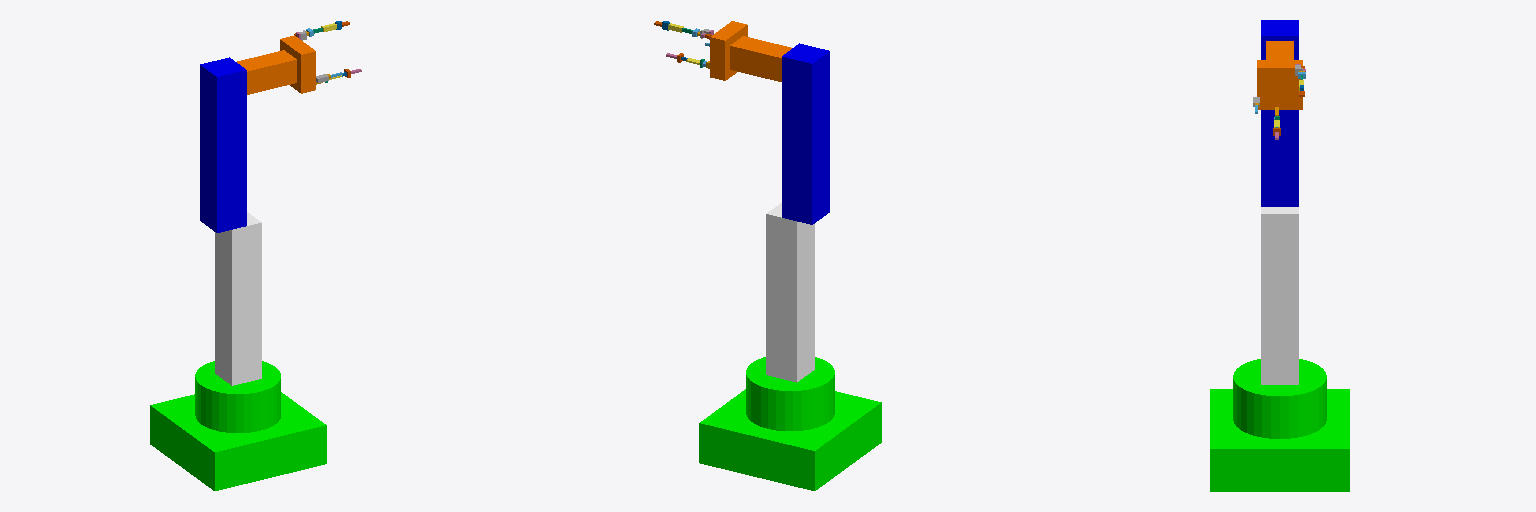
The robot description file, URDF, robot "robot":
<?xml version='1.0' encoding='utf-8'?>
<robot name="robot">
  <link name="base_link">
    <visual>
      <origin xyz="0 0 0.125" rpy="0 0 0" />
      <geometry>
        <box size="0.75 0.75 0.25" />
      </geometry>
      <material name="green" />
    </visual>
    <visual>
      <origin xyz="0 0 0.375" rpy="0 0 0" />
      <geometry>
        <cylinder length="0.25" radius="0.25" />
      </geometry>
      <material name="green">
        <color rgba="0 1 0 1" />
      </material>
    </visual>
    <collision>
      <geometry>
        <box size="0.75 0.75 0.5" />
      </geometry>
    </collision>
    <inertial>
      <mass value="0.5" />
      <inertia ixx="0.034" ixy="0.0" ixz="0.0" iyy="0.034" iyz="0.0" izz="0.034" />
    </inertial>
  </link>
  <link name="support_link">
    <visual>
      <origin xyz="0 0 0.5" rpy="0 0 0" />
      <geometry>
        <box size="0.2 0.2 1" />
      </geometry>
      <material name="white">
        <color rgba="1 1 1 1" />
      </material>
    </visual>
    <collision>
      <geometry>
        <box size="0.2 0.2 1" />
      </geometry>
    </collision>
    <inertial>
      <mass value="0.1" />
      <inertia ixx="0.01" ixy="0.0" ixz="0.0" iyy="0.01" iyz="0.0" izz="0.01" />
    </inertial>
  </link>
  <joint name="support_joint" type="continuous">
    <origin xyz="0 0 0.5" rpy="0 0 0" />
    <parent link="base_link" />
    <child link="support_link" />
    <axis xyz="0 0 1" />
  </joint>
  <link name="arm_link">
    <visual>
      <origin xyz="0 0 0.5" rpy="0 0 0" />
      <geometry>
        <box size="0.2 0.2 1" />
      </geometry>
      <material name="blue">
        <color rgba="0 0 1 1" />
      </material>
    </visual>
    <collision>
      <geometry>
        <box size="0.2 0.2 1" />
      </geometry>
    </collision>
    <inertial>
      <mass value="0.1" />
      <inertia ixx="0.01" ixy="0.0" ixz="0.0" iyy="0.01" iyz="0.0" izz="0.01" />
    </inertial>
  </link>
  <joint name="arm_joint" type="revolute">
    <origin xyz="-0.1 0 1" rpy="0 0 0" />
    <parent link="support_link" />
    <child link="arm_link" />
    <axis xyz="0 1 0" />
    <limit lower="-3.14" upper="3.14" effort="1.0" velocity="1.0" />
  </joint>
  <link name="wrist_link">
    <visual>
      <origin xyz="0 0 0.25" rpy="0 0 0" />
      <geometry>
        <box size="0.15 0.15 0.5" />
      </geometry>
      <material name="orange">
        <color rgba="1 0.5 0 1" />
      </material>
    </visual>
    <collision>
      <geometry>
        <box size="0.15 0.15 0.5" />
      </geometry>
    </collision>
    <inertial>
      <mass value="0.1" />
      <inertia ixx="0.01" ixy="0.0" ixz="0.0" iyy="0.01" iyz="0.0" izz="0.01" />
    </inertial>
  </link>
  <joint name="wrist_joint" type="fixed">
    <origin xyz="0 0 0.9" rpy="0 1.571 0" />
    <parent link="arm_link" />
    <child link="wrist_link" />
  </joint>
  <link name="palm_link">
    <visual>
      <origin xyz="0 0 0.05" rpy="0 0 0" />
      <geometry>
        <box size="0.25 0.25 0.1" />
      </geometry>
      <material name="orange" />
    </visual>
    <collision>
      <geometry>
        <box size="0.25 0.25 0.1" />
      </geometry>
    </collision>
    <inertial>
      <mass value="0.1" />
      <inertia ixx="0.01" ixy="0.0" ixz="0.0" iyy="0.01" iyz="0.0" izz="0.01" />
    </inertial>
  </link>
  <joint name="palm_joint" type="fixed">
    <origin xyz="0 0 0.45" rpy="0 0 0" />
    <parent link="wrist_link" />
    <child link="palm_link" />
  </joint>
  <link name="finger_link_0_0">
    <visual>
      <origin xyz="0 0 0.0155" rpy="0 0 0" />
      <geometry>
        <box size="0.018 0.032 0.031" />
      </geometry>
    </visual>
    <collision>
      <geometry>
        <box size="0.018 0.032 0.031" />
      </geometry>
    </collision>
    <inertial>
      <mass value="0.005" />
      <inertia ixx="0.0" iyy="0.0" izz="0.0" ixy="0" ixz="0" iyz="0" />
    </inertial>
  </link>
  <joint name="finger_joint_palm_link_to_finger_link_0_0" type="revolute">
    <origin xyz="-0.125 0.116 0.1" rpy="0 0 0" />
    <parent link="palm_link" />
    <child link="finger_link_0_0" />
    <axis xyz="0.0 -1.0 0.0" />
    <limit lower="-3.142" upper="3.142" effort="10" velocity="10" />
  </joint>
  <link name="finger_link_0_1">
    <visual>
      <origin xyz="0 0 0.01" rpy="0 0 0" />
      <geometry>
        <box size="0.016 0.042 0.02" />
      </geometry>
    </visual>
    <collision>
      <geometry>
        <box size="0.016 0.042 0.02" />
      </geometry>
    </collision>
    <inertial>
      <mass value="0.004" />
      <inertia ixx="0.0" iyy="0.0" izz="0.0" ixy="0" ixz="0" iyz="0" />
    </inertial>
  </link>
  <joint name="finger_joint_finger_link_0_0_to_finger_link_0_1" type="revolute">
    <origin xyz="0.0 0.0 0.031" rpy="0 0 0" />
    <parent link="finger_link_0_0" />
    <child link="finger_link_0_1" />
    <axis xyz="0.0 1.0 0.0" />
    <limit lower="-3.142" upper="3.142" effort="10" velocity="10" />
  </joint>
  <link name="finger_link_0_2">
    <visual>
      <origin xyz="0 0 0.006" rpy="0 0 0" />
      <geometry>
        <box size="0.046 0.015 0.012" />
      </geometry>
    </visual>
    <collision>
      <geometry>
        <box size="0.046 0.015 0.012" />
      </geometry>
    </collision>
    <inertial>
      <mass value="0.002" />
      <inertia ixx="0.0" iyy="0.0" izz="0.0" ixy="0" ixz="0" iyz="0" />
    </inertial>
  </link>
  <joint name="finger_joint_finger_link_0_1_to_finger_link_0_2" type="revolute">
    <origin xyz="0.0 0.0 0.02" rpy="0 0 0" />
    <parent link="finger_link_0_1" />
    <child link="finger_link_0_2" />
    <axis xyz="1.0 0.0 0.0" />
    <limit lower="-3.142" upper="3.142" effort="10" velocity="10" />
  </joint>
  <link name="finger_link_0_3">
    <visual>
      <origin xyz="0 0 0.009" rpy="0 0 0" />
      <geometry>
        <box size="0.017 0.032 0.018" />
      </geometry>
    </visual>
    <collision>
      <geometry>
        <box size="0.017 0.032 0.018" />
      </geometry>
    </collision>
    <inertial>
      <mass value="0.003" />
      <inertia ixx="0.0" iyy="0.0" izz="0.0" ixy="0" ixz="0" iyz="0" />
    </inertial>
  </link>
  <joint name="finger_joint_finger_link_0_2_to_finger_link_0_3" type="revolute">
    <origin xyz="0.0 0.0 0.012" rpy="0 0 0" />
    <parent link="finger_link_0_2" />
    <child link="finger_link_0_3" />
    <axis xyz="1.0 0.0 0.0" />
    <limit lower="-3.142" upper="3.142" effort="10" velocity="10" />
  </joint>
  <link name="finger_link_0_4">
    <visual>
      <origin xyz="0 0 0.0135" rpy="0 0 0" />
      <geometry>
        <box size="0.032 0.045 0.027" />
      </geometry>
    </visual>
    <collision>
      <geometry>
        <box size="0.032 0.045 0.027" />
      </geometry>
    </collision>
    <inertial>
      <mass value="0.012" />
      <inertia ixx="0.0" iyy="0.0" izz="0.0" ixy="0" ixz="0" iyz="0" />
    </inertial>
  </link>
  <joint name="finger_joint_finger_link_0_3_to_finger_link_0_4" type="revolute">
    <origin xyz="0.0 0.0 0.018" rpy="0 0 0" />
    <parent link="finger_link_0_3" />
    <child link="finger_link_0_4" />
    <axis xyz="0.0 1.0 0.0" />
    <limit lower="-3.142" upper="3.142" effort="10" velocity="10" />
  </joint>
  <link name="finger_link_0_5">
    <visual>
      <origin xyz="0 0 0.0365" rpy="0 0 0" />
      <geometry>
        <box size="0.021 0.012 0.073" />
      </geometry>
    </visual>
    <collision>
      <geometry>
        <box size="0.021 0.012 0.073" />
      </geometry>
    </collision>
    <inertial>
      <mass value="0.006" />
      <inertia ixx="0.0" iyy="0.0" izz="0.0" ixy="0" ixz="0" iyz="0" />
    </inertial>
  </link>
  <joint name="finger_joint_finger_link_0_4_to_finger_link_0_5" type="revolute">
    <origin xyz="0.0 0.0 0.027" rpy="0 0 0" />
    <parent link="finger_link_0_4" />
    <child link="finger_link_0_5" />
    <axis xyz="0.0 1.0 0.0" />
    <limit lower="-3.142" upper="3.142" effort="10" velocity="10" />
  </joint>
  <link name="finger_link_0_6">
    <visual>
      <origin xyz="0 0 0.044" rpy="0 0 0" />
      <geometry>
        <box size="0.03 0.025 0.088" />
      </geometry>
    </visual>
    <collision>
      <geometry>
        <box size="0.03 0.025 0.088" />
      </geometry>
    </collision>
    <inertial>
      <mass value="0.02" />
      <inertia ixx="0.0" iyy="0.0" izz="0.0" ixy="0" ixz="0" iyz="0" />
    </inertial>
  </link>
  <joint name="finger_joint_finger_link_0_5_to_finger_link_0_6" type="revolute">
    <origin xyz="0.0 0.0 0.073" rpy="0 0 0" />
    <parent link="finger_link_0_5" />
    <child link="finger_link_0_6" />
    <axis xyz="0.0 1.0 0.0" />
    <limit lower="-3.142" upper="3.142" effort="10" velocity="10" />
  </joint>
  <link name="finger_link_0_7">
    <visual>
      <origin xyz="0 0 0.019" rpy="0 0 0" />
      <geometry>
        <box size="0.046 0.024 0.038" />
      </geometry>
    </visual>
    <collision>
      <geometry>
        <box size="0.046 0.024 0.038" />
      </geometry>
    </collision>
    <inertial>
      <mass value="0.013" />
      <inertia ixx="0.0" iyy="0.0" izz="0.0" ixy="0" ixz="0" iyz="0" />
    </inertial>
  </link>
  <joint name="finger_joint_finger_link_0_6_to_finger_link_0_7" type="revolute">
    <origin xyz="0.0 0.0 0.088" rpy="0 0 0" />
    <parent link="finger_link_0_6" />
    <child link="finger_link_0_7" />
    <axis xyz="0.0 1.0 0.0" />
    <limit lower="-3.142" upper="3.142" effort="10" velocity="10" />
  </joint>
  <link name="finger_link_0_8">
    <visual>
      <origin xyz="0 0 0.0255" rpy="0 0 0" />
      <geometry>
        <box size="0.013 0.03 0.051" />
      </geometry>
    </visual>
    <collision>
      <geometry>
        <box size="0.013 0.03 0.051" />
      </geometry>
    </collision>
    <inertial>
      <mass value="0.006" />
      <inertia ixx="0.0" iyy="0.0" izz="0.0" ixy="0" ixz="0" iyz="0" />
    </inertial>
  </link>
  <joint name="finger_joint_finger_link_0_7_to_finger_link_0_8" type="revolute">
    <origin xyz="0.0 0.0 0.038" rpy="0 0 0" />
    <parent link="finger_link_0_7" />
    <child link="finger_link_0_8" />
    <axis xyz="0.0 1.0 0.0" />
    <limit lower="-3.142" upper="3.142" effort="10" velocity="10" />
  </joint>
  <link name="finger_link_1_0">
    <visual>
      <origin xyz="0 0 0.0075" rpy="0 0 0" />
      <geometry>
        <box size="0.049 0.029 0.015" />
      </geometry>
    </visual>
    <collision>
      <geometry>
        <box size="0.049 0.029 0.015" />
      </geometry>
    </collision>
    <inertial>
      <mass value="0.006" />
      <inertia ixx="0.0" iyy="0.0" izz="0.0" ixy="0" ixz="0" iyz="0" />
    </inertial>
  </link>
  <joint name="finger_joint_palm_link_to_finger_link_1_0" type="revolute">
    <origin xyz="-0.125 0.095 0.1" rpy="0 0 0" />
    <parent link="palm_link" />
    <child link="finger_link_1_0" />
    <axis xyz="0.0 -1.0 0.0" />
    <limit lower="-3.142" upper="3.142" effort="10" velocity="10" />
  </joint>
  <link name="finger_link_1_1">
    <visual>
      <origin xyz="0 0 0.02" rpy="0 0 0" />
      <geometry>
        <box size="0.042 0.03 0.04" />
      </geometry>
    </visual>
    <collision>
      <geometry>
        <box size="0.042 0.03 0.04" />
      </geometry>
    </collision>
    <inertial>
      <mass value="0.015" />
      <inertia ixx="0.0" iyy="0.0" izz="0.0" ixy="0" ixz="0" iyz="0" />
    </inertial>
  </link>
  <joint name="finger_joint_finger_link_1_0_to_finger_link_1_1" type="revolute">
    <origin xyz="0.0 0.0 0.015" rpy="0 0 0" />
    <parent link="finger_link_1_0" />
    <child link="finger_link_1_1" />
    <axis xyz="1.0 0.0 0.0" />
    <limit lower="-3.142" upper="3.142" effort="10" velocity="10" />
  </joint>
  <link name="finger_link_2_0">
    <visual>
      <origin xyz="0 0 0.0495" rpy="0 0 0" />
      <geometry>
        <box size="0.035 0.021 0.099" />
      </geometry>
    </visual>
    <collision>
      <geometry>
        <box size="0.035 0.021 0.099" />
      </geometry>
    </collision>
    <inertial>
      <mass value="0.022" />
      <inertia ixx="0.0" iyy="0.0" izz="0.0" ixy="0" ixz="0" iyz="0" />
    </inertial>
  </link>
  <joint name="finger_joint_palm_link_to_finger_link_2_0" type="revolute">
    <origin xyz="0.125 -0.015 0.1" rpy="0 0 0" />
    <parent link="palm_link" />
    <child link="finger_link_2_0" />
    <axis xyz="0.0 1.0 0.0" />
    <limit lower="-3.142" upper="3.142" effort="10" velocity="10" />
  </joint>
  <link name="finger_link_2_1">
    <visual>
      <origin xyz="0 0 0.0125" rpy="0 0 0" />
      <geometry>
        <box size="0.019 0.033 0.025" />
      </geometry>
    </visual>
    <collision>
      <geometry>
        <box size="0.019 0.033 0.025" />
      </geometry>
    </collision>
    <inertial>
      <mass value="0.005" />
      <inertia ixx="0.0" iyy="0.0" izz="0.0" ixy="0" ixz="0" iyz="0" />
    </inertial>
  </link>
  <joint name="finger_joint_finger_link_2_0_to_finger_link_2_1" type="revolute">
    <origin xyz="0.0 0.0 0.099" rpy="0 0 0" />
    <parent link="finger_link_2_0" />
    <child link="finger_link_2_1" />
    <axis xyz="1.0 0.0 0.0" />
    <limit lower="-3.142" upper="3.142" effort="10" velocity="10" />
  </joint>
  <link name="finger_link_2_2">
    <visual>
      <origin xyz="0 0 0.006" rpy="0 0 0" />
      <geometry>
        <box size="0.048 0.027 0.012" />
      </geometry>
    </visual>
    <collision>
      <geometry>
        <box size="0.048 0.027 0.012" />
      </geometry>
    </collision>
    <inertial>
      <mass value="0.005" />
      <inertia ixx="0.0" iyy="0.0" izz="0.0" ixy="0" ixz="0" iyz="0" />
    </inertial>
  </link>
  <joint name="finger_joint_finger_link_2_1_to_finger_link_2_2" type="revolute">
    <origin xyz="0.0 0.0 0.025" rpy="0 0 0" />
    <parent link="finger_link_2_1" />
    <child link="finger_link_2_2" />
    <axis xyz="1.0 0.0 0.0" />
    <limit lower="-3.142" upper="3.142" effort="10" velocity="10" />
  </joint>
  <link name="finger_link_2_3">
    <visual>
      <origin xyz="0 0 0.045" rpy="0 0 0" />
      <geometry>
        <box size="0.01 0.035 0.09" />
      </geometry>
    </visual>
    <collision>
      <geometry>
        <box size="0.01 0.035 0.09" />
      </geometry>
    </collision>
    <inertial>
      <mass value="0.009" />
      <inertia ixx="0.0" iyy="0.0" izz="0.0" ixy="0" ixz="0" iyz="0" />
    </inertial>
  </link>
  <joint name="finger_joint_finger_link_2_2_to_finger_link_2_3" type="revolute">
    <origin xyz="0.0 0.0 0.012" rpy="0 0 0" />
    <parent link="finger_link_2_2" />
    <child link="finger_link_2_3" />
    <axis xyz="1.0 0.0 0.0" />
    <limit lower="-3.142" upper="3.142" effort="10" velocity="10" />
  </joint>
  <link name="finger_link_2_4">
    <visual>
      <origin xyz="0 0 0.0185" rpy="0 0 0" />
      <geometry>
        <box size="0.017 0.013 0.037" />
      </geometry>
    </visual>
    <collision>
      <geometry>
        <box size="0.017 0.013 0.037" />
      </geometry>
    </collision>
    <inertial>
      <mass value="0.002" />
      <inertia ixx="0.0" iyy="0.0" izz="0.0" ixy="0" ixz="0" iyz="0" />
    </inertial>
  </link>
  <joint name="finger_joint_finger_link_2_3_to_finger_link_2_4" type="revolute">
    <origin xyz="0.0 0.0 0.09" rpy="0 0 0" />
    <parent link="finger_link_2_3" />
    <child link="finger_link_2_4" />
    <axis xyz="0.0 1.0 0.0" />
    <limit lower="-3.142" upper="3.142" effort="10" velocity="10" />
  </joint>
  <link name="finger_link_2_5">
    <visual>
      <origin xyz="0 0 0.01" rpy="0 0 0" />
      <geometry>
        <box size="0.041 0.041 0.02" />
      </geometry>
    </visual>
    <collision>
      <geometry>
        <box size="0.041 0.041 0.02" />
      </geometry>
    </collision>
    <inertial>
      <mass value="0.01" />
      <inertia ixx="0.0" iyy="0.0" izz="0.0" ixy="0" ixz="0" iyz="0" />
    </inertial>
  </link>
  <joint name="finger_joint_finger_link_2_4_to_finger_link_2_5" type="revolute">
    <origin xyz="0.0 0.0 0.037" rpy="0 0 0" />
    <parent link="finger_link_2_4" />
    <child link="finger_link_2_5" />
    <axis xyz="0.0 1.0 0.0" />
    <limit lower="-3.142" upper="3.142" effort="10" velocity="10" />
  </joint>
  <link name="finger_link_2_6">
    <visual>
      <origin xyz="0 0 0.04" rpy="0 0 0" />
      <geometry>
        <box size="0.012 0.022 0.08" />
      </geometry>
    </visual>
    <collision>
      <geometry>
        <box size="0.012 0.022 0.08" />
      </geometry>
    </collision>
    <inertial>
      <mass value="0.006" />
      <inertia ixx="0.0" iyy="0.0" izz="0.0" ixy="0" ixz="0" iyz="0" />
    </inertial>
  </link>
  <joint name="finger_joint_finger_link_2_5_to_finger_link_2_6" type="revolute">
    <origin xyz="0.0 0.0 0.02" rpy="0 0 0" />
    <parent link="finger_link_2_5" />
    <child link="finger_link_2_6" />
    <axis xyz="1.0 0.0 0.0" />
    <limit lower="-3.142" upper="3.142" effort="10" velocity="10" />
  </joint>
  <link name="finger_link_3_0">
    <visual>
      <origin xyz="0 0 0.037" rpy="0 0 0" />
      <geometry>
        <box size="0.028 0.039 0.074" />
      </geometry>
    </visual>
    <collision>
      <geometry>
        <box size="0.028 0.039 0.074" />
      </geometry>
    </collision>
    <inertial>
      <mass value="0.024" />
      <inertia ixx="0.0" iyy="0.0" izz="0.0" ixy="0" ixz="0" iyz="0" />
    </inertial>
  </link>
  <joint name="finger_joint_palm_link_to_finger_link_3_0" type="revolute">
    <origin xyz="0.059 -0.125 0.1" rpy="0 0 0" />
    <parent link="palm_link" />
    <child link="finger_link_3_0" />
    <axis xyz="1.0 0.0 0.0" />
    <limit lower="-3.142" upper="3.142" effort="10" velocity="10" />
  </joint>
  <link name="finger_link_3_1">
    <visual>
      <origin xyz="0 0 0.0105" rpy="0 0 0" />
      <geometry>
        <box size="0.024 0.021 0.021" />
      </geometry>
    </visual>
    <collision>
      <geometry>
        <box size="0.024 0.021 0.021" />
      </geometry>
    </collision>
    <inertial>
      <mass value="0.003" />
      <inertia ixx="0.0" iyy="0.0" izz="0.0" ixy="0" ixz="0" iyz="0" />
    </inertial>
  </link>
  <joint name="finger_joint_finger_link_3_0_to_finger_link_3_1" type="revolute">
    <origin xyz="0.0 0.0 0.074" rpy="0 0 0" />
    <parent link="finger_link_3_0" />
    <child link="finger_link_3_1" />
    <axis xyz="1.0 0.0 0.0" />
    <limit lower="-3.142" upper="3.142" effort="10" velocity="10" />
  </joint>
  <link name="finger_link_3_2">
    <visual>
      <origin xyz="0 0 0.0395" rpy="0 0 0" />
      <geometry>
        <box size="0.014 0.012 0.079" />
      </geometry>
    </visual>
    <collision>
      <geometry>
        <box size="0.014 0.012 0.079" />
      </geometry>
    </collision>
    <inertial>
      <mass value="0.004" />
      <inertia ixx="0.0" iyy="0.0" izz="0.0" ixy="0" ixz="0" iyz="0" />
    </inertial>
  </link>
  <joint name="finger_joint_finger_link_3_1_to_finger_link_3_2" type="revolute">
    <origin xyz="0.0 0.0 0.021" rpy="0 0 0" />
    <parent link="finger_link_3_1" />
    <child link="finger_link_3_2" />
    <axis xyz="1.0 0.0 0.0" />
    <limit lower="-3.142" upper="3.142" effort="10" velocity="10" />
  </joint>
</robot>

--- Facts derived from the render (not from the file) ---
3 views of the same robot in one strip: view 1: azimuth 30°, elevation 25°; view 2: azimuth 150°, elevation 25°; view 3: azimuth 270°, elevation 25° (orthographic).
Model robot with 26 links and 25 joints (22 revolute, 1 continuous, 2 fixed), rooted at base_link, posed all joints at 0.
Links seen in each view (by area): view 1: base_link, arm_link, support_link, wrist_link, palm_link; view 2: base_link, arm_link, support_link, wrist_link, palm_link; view 3: base_link, support_link, arm_link, palm_link, wrist_link.
Boxes of the visible links, x1,y1,x2,y2 form: base_link: [150, 361, 326, 490]; arm_link: [200, 57, 246, 232]; support_link: [215, 212, 261, 385]; wrist_link: [237, 50, 296, 94]; palm_link: [280, 35, 315, 93]; base_link: [699, 357, 881, 490]; arm_link: [782, 43, 829, 224]; support_link: [766, 203, 814, 382]; wrist_link: [730, 36, 791, 81]; palm_link: [710, 21, 747, 80]; base_link: [1210, 359, 1349, 491]; support_link: [1261, 207, 1298, 384]; arm_link: [1261, 20, 1298, 206]; palm_link: [1257, 60, 1302, 109]; wrist_link: [1266, 41, 1293, 59].
Bounding box of the posed robot: 1.19 × 0.75 × 2.55 m (x, y, z).
Geometry: primitives only (box / cylinder / sphere), no mesh files.